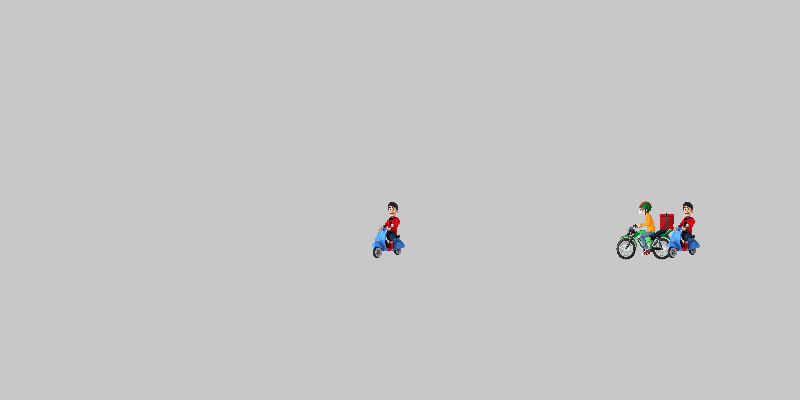helmet: (615, 200, 675, 260)
no_helmet: (360, 200, 420, 260), (655, 200, 715, 260)
